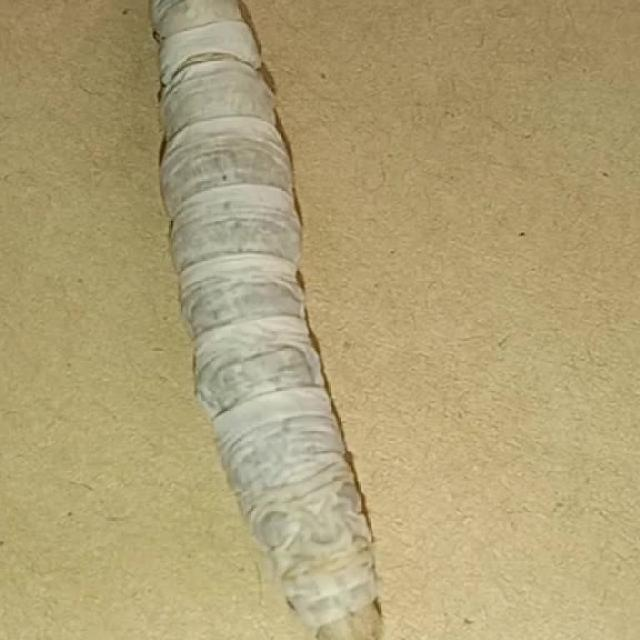Grasserie: (112, 2, 421, 640)
